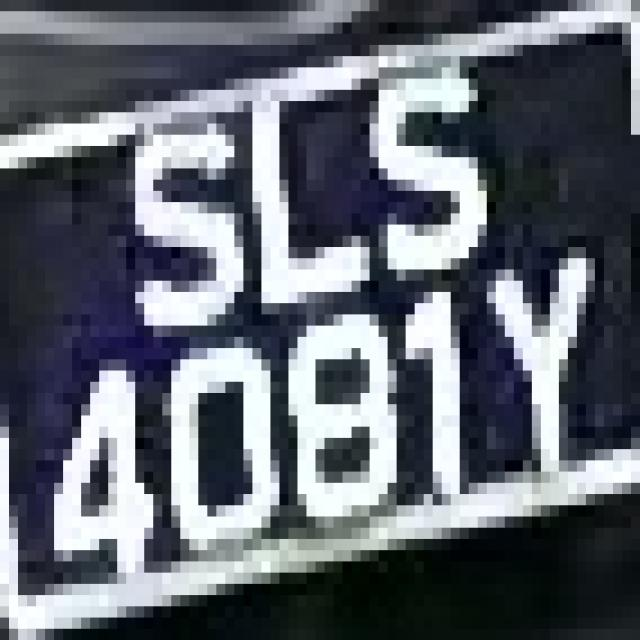0: (144, 337, 298, 550)
1: (406, 224, 486, 516)
4: (18, 337, 171, 617)
8: (262, 281, 388, 550)
L: (216, 90, 370, 292)
S: (100, 78, 243, 336), (342, 45, 487, 292)
Y: (451, 214, 613, 516)
